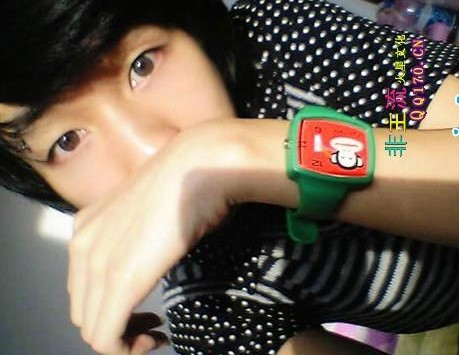face: (1, 2, 248, 226)
